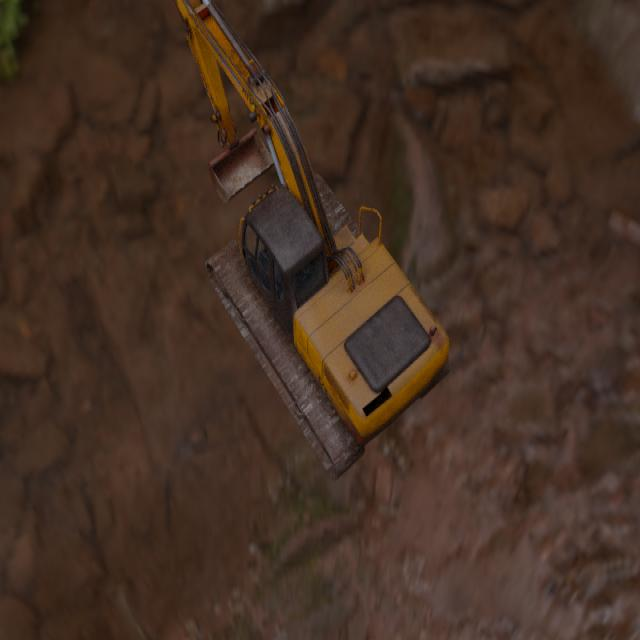excavator: (173, 0, 450, 483)
